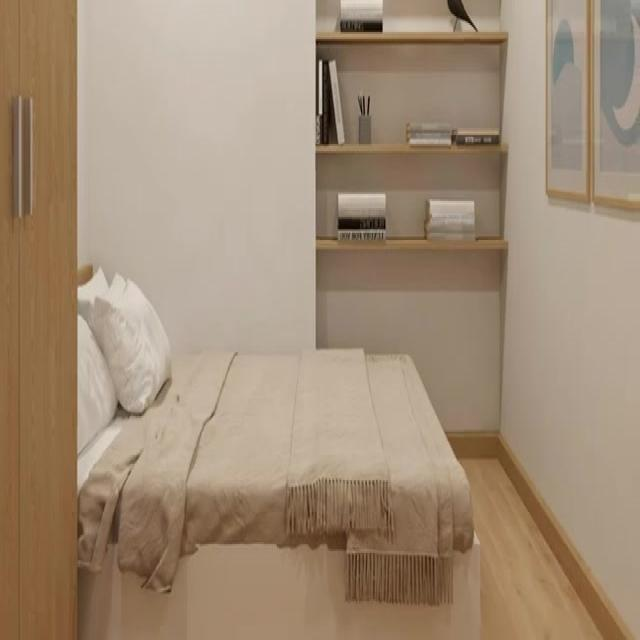obstacle: (76, 262, 480, 636), (0, 0, 79, 638)
